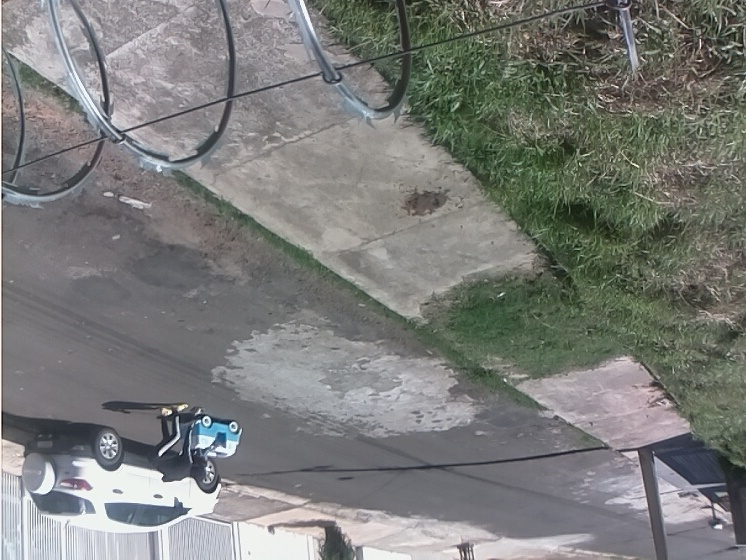person: (149, 403, 210, 484)
